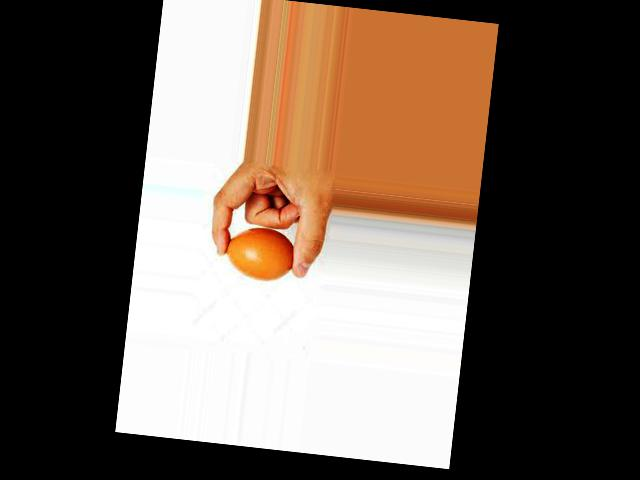egg: (222, 223, 296, 284)
